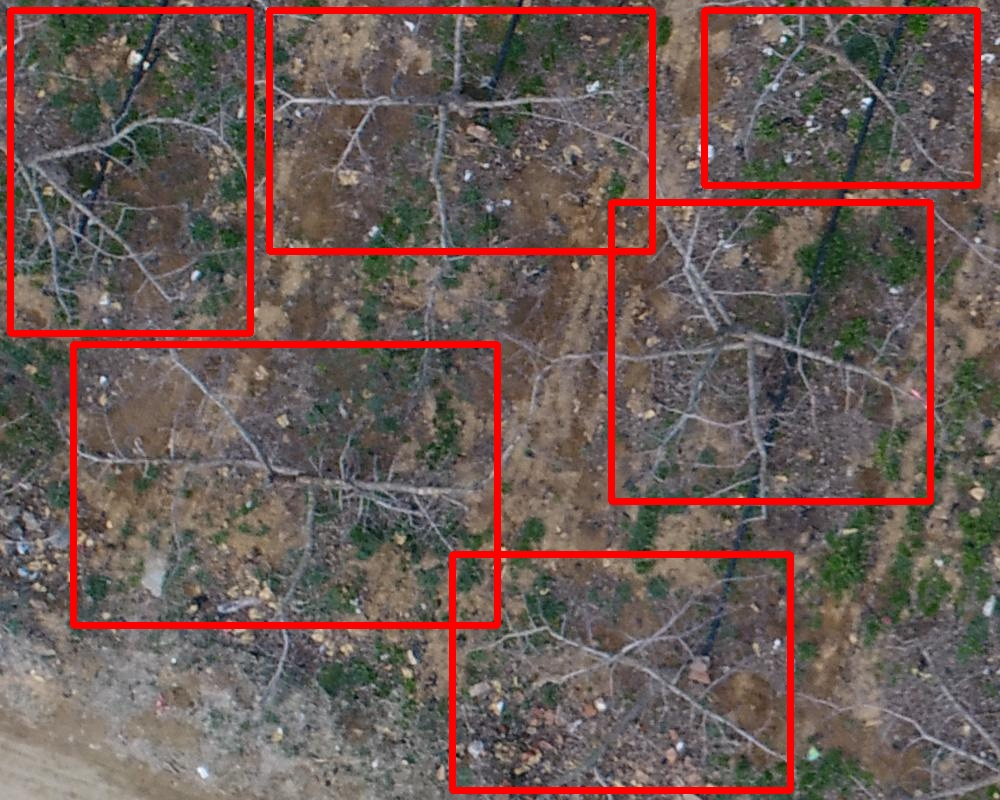apple: (73, 344, 497, 625), (611, 202, 930, 501), (269, 10, 652, 251), (452, 554, 790, 790), (10, 10, 250, 333), (704, 10, 977, 185)
